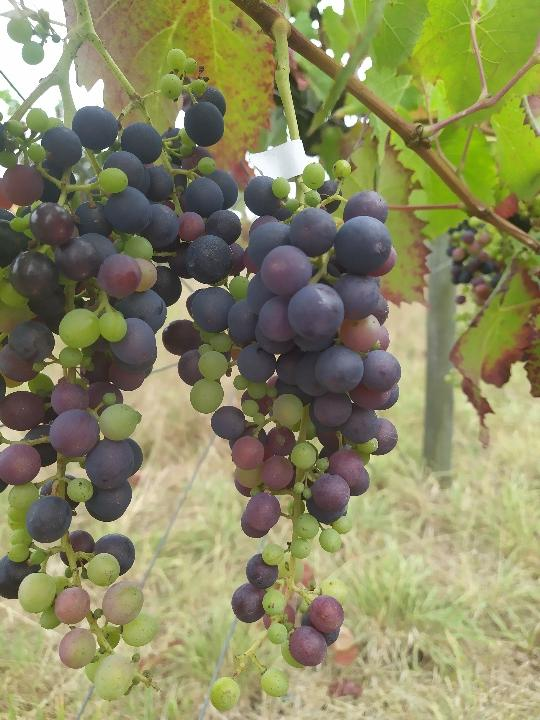grape: (0, 42, 229, 703), (163, 156, 413, 714)
